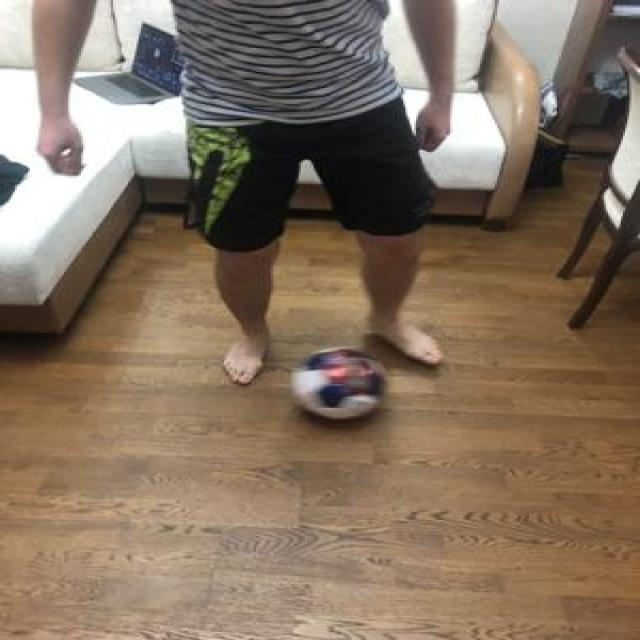Soccer Ball: (286, 344, 388, 419)
